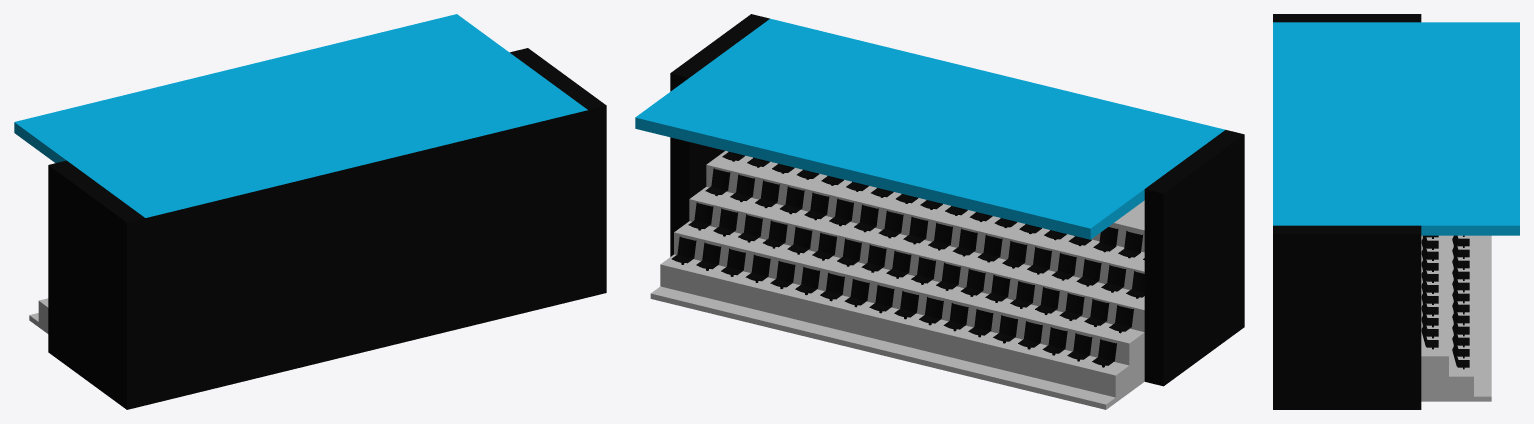
Rendered from tribune.fbx.
3 views of the same model, side by side, from view 1: azimuth 30°, elevation 25°; view 2: azimuth 150°, elevation 25°; view 3: azimuth 270°, elevation 25° (orthographic). The views are drawn at different scales.
Parts seen in each view (by area): view 1: tribune; view 2: tribune; view 3: tribune.
Boxes of the visible parts, left/top/right/bottom form: tribune: left=14, top=14, right=606, bottom=409; tribune: left=635, top=14, right=1244, bottom=409; tribune: left=1273, top=14, right=1519, bottom=409.
Size of the model in its own units: 9171 by 3421 by 4349.
